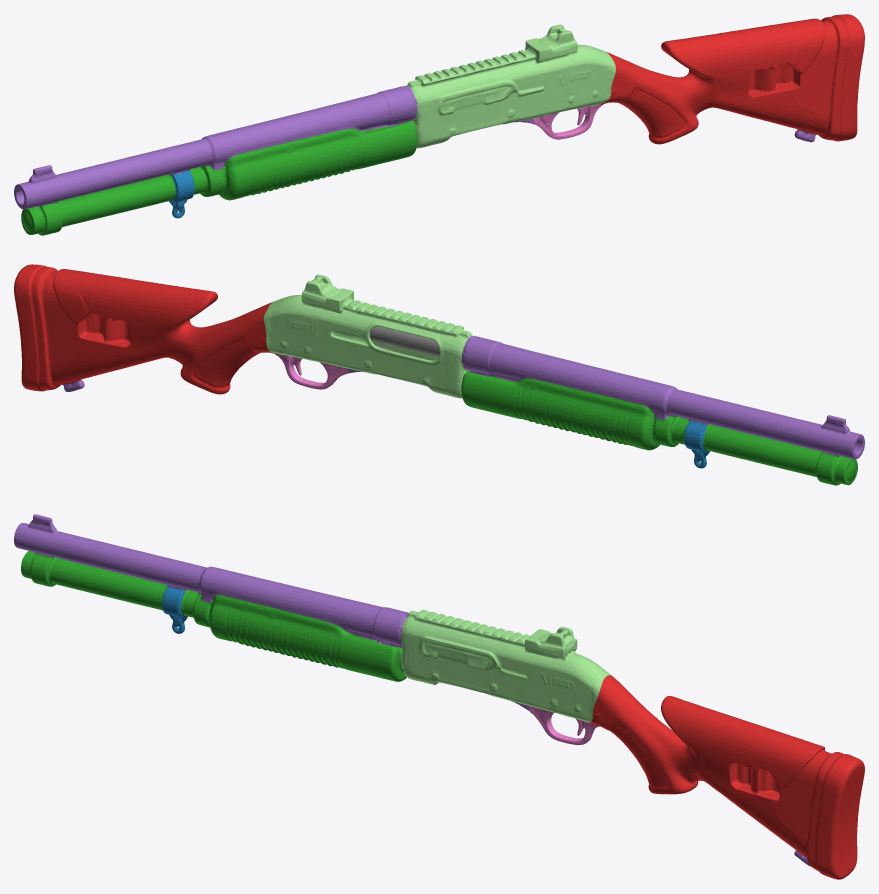
The model's file is tactical-shotgun.glb.
3 renders of one model, top to bottom at view 1: azimuth 30°, elevation 25°; view 2: azimuth 150°, elevation 25°; view 3: azimuth 330°, elevation 25°, orthographic.
Visible parts, largest first — view 1: model_part9, model_part10, model_part7, model_part8, model_part5, model_part4, model_part3; view 2: model_part9, model_part10, model_part7, model_part8, model_part5, model_part6, model_part4, model_part3; view 3: model_part9, model_part10, model_part7, model_part8, model_part5, model_part4, model_part3.
Part boxes in pixels (x1,y1,x2,y2): model_part9: (600,14,864,144); model_part10: (406,24,615,148); model_part7: (14,86,417,209); model_part8: (189,121,417,200); model_part5: (21,174,175,235); model_part4: (532,104,601,139); model_part3: (169,170,194,218); model_part9: (14,264,277,394); model_part10: (263,274,473,398); model_part7: (461,336,864,459); model_part8: (461,370,689,450); model_part5: (703,424,857,485); model_part6: (370,326,439,356); model_part4: (278,354,348,389); model_part3: (684,420,709,468); model_part9: (589,675,864,879); model_part10: (400,609,610,722); model_part7: (14,514,408,647); model_part8: (181,589,406,681); model_part5: (21,551,167,610); model_part4: (529,706,597,745); model_part3: (162,586,187,633).
Bounding box in the file's own units: 0.12 × 0.0242 × 0.00644.
